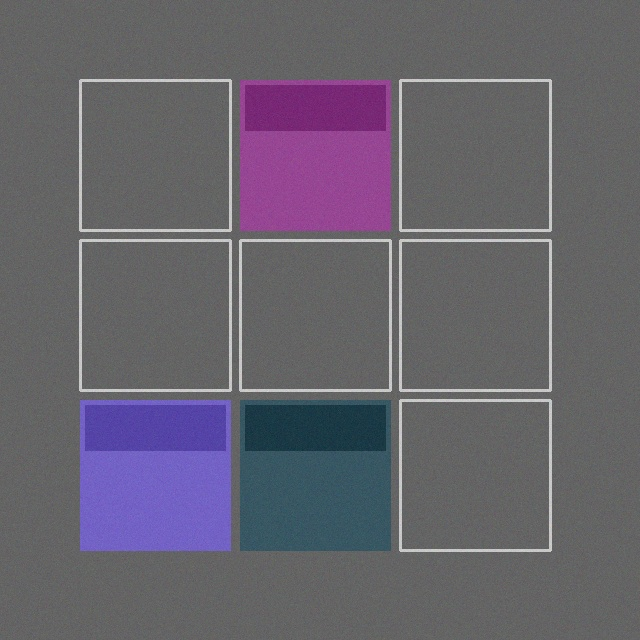space-empty: (80, 80, 230, 230), (400, 80, 550, 230), (80, 240, 230, 390), (240, 240, 390, 390), (400, 240, 550, 390), (400, 400, 550, 550)
space-occupied: (240, 80, 390, 230), (80, 400, 230, 550), (240, 400, 390, 550)
